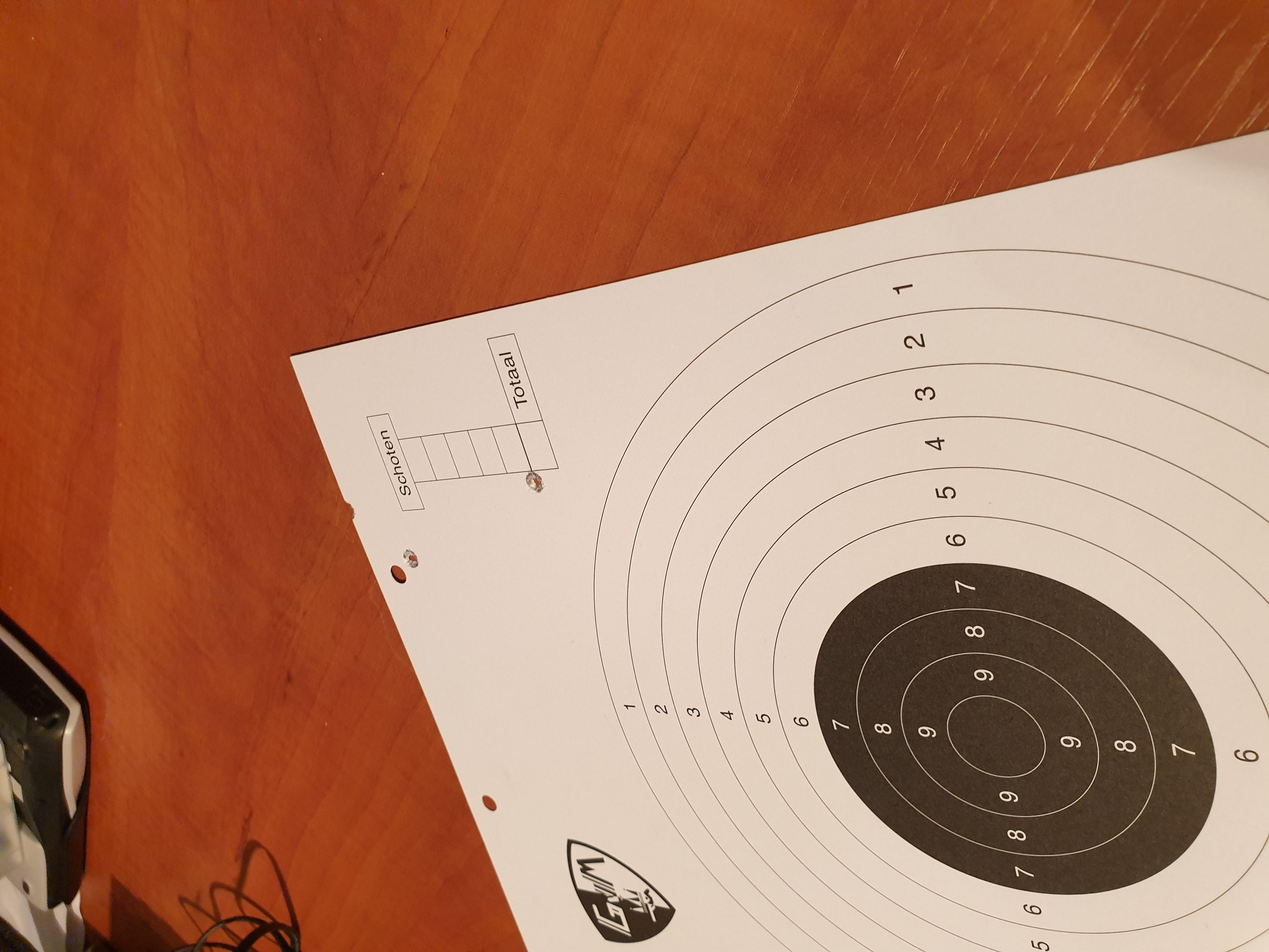hole: (610, 392, 641, 409), (508, 302, 539, 315), (575, 257, 602, 268)
